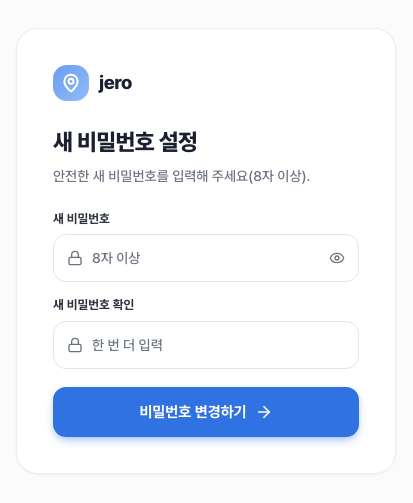
Test: ResetPasswordPanel — 새 비밀번호 설정 › 확인 불일치 → 에러, 이동 안 함
Step 1. Type "newsecret12" into the password field with placeholder "8자 이상" → (206, 258), box [53,234,359,282]
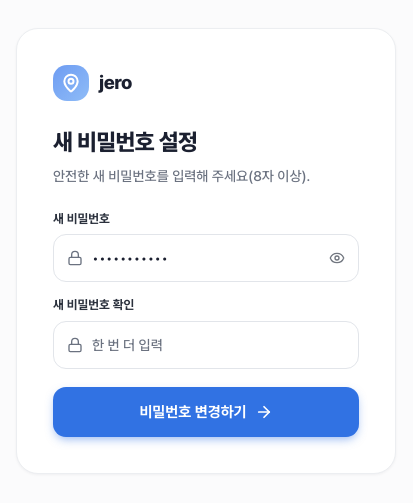
Step 2. Type "different99" into the password field with placeholder "한 번 더 입력" → (206, 345), box [53,321,359,369]
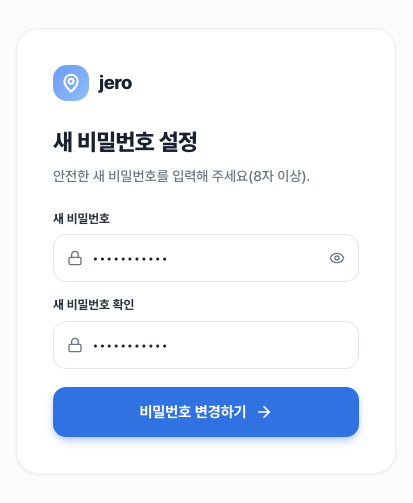
Step 3. Click the button "비밀번호 변경하기" → (206, 412), box [53,387,359,437]
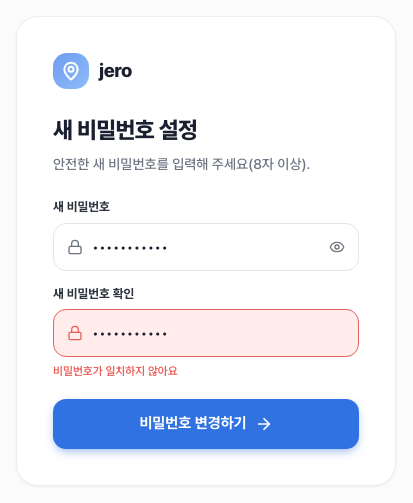
Result: the text "비밀번호가 일치하지 않아요" is shown at [53,364,178,378]
